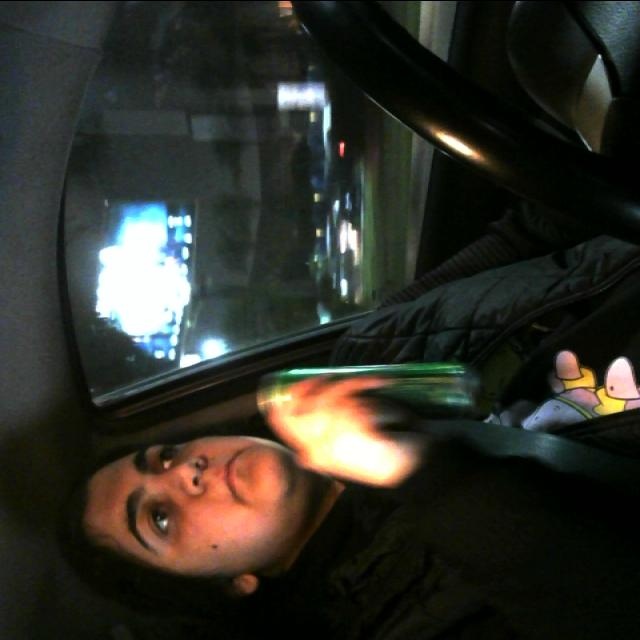drinking: (254, 350, 493, 426)
